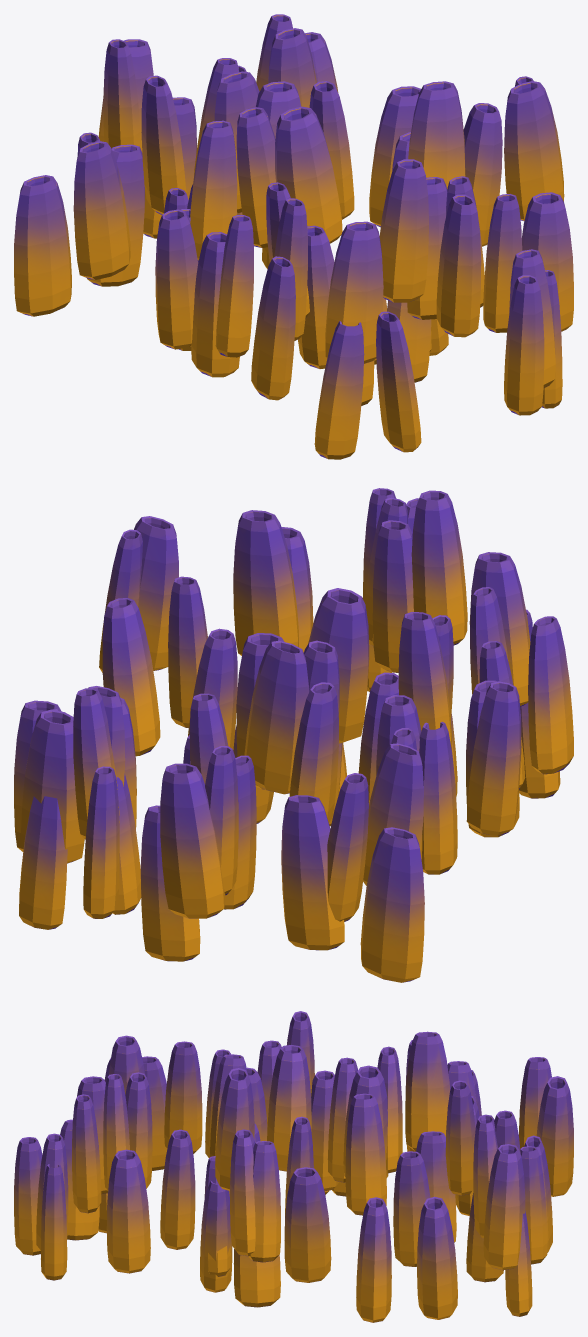
Rendered from purpyellowcoral2.glb.
3 renders of one model, top to bottom at view 1: azimuth 30°, elevation 25°; view 2: azimuth 150°, elevation 25°; view 3: azimuth 270°, elevation 25°, orthographic. The views are drawn at different scales.
Visible parts, largest first — view 1: coral 1.001; view 2: coral 1.001; view 3: coral 1.001.
Boxes of the visible parts, x1=… form: coral 1.001: x1=14, y1=14, x2=573, y2=459; coral 1.001: x1=14, y1=488, x2=573, y2=982; coral 1.001: x1=14, y1=1011, x2=573, y2=1322.
Bounding box in the file's own units: 10.4 × 6.5 × 14.18.
1 material, 1 textured.
